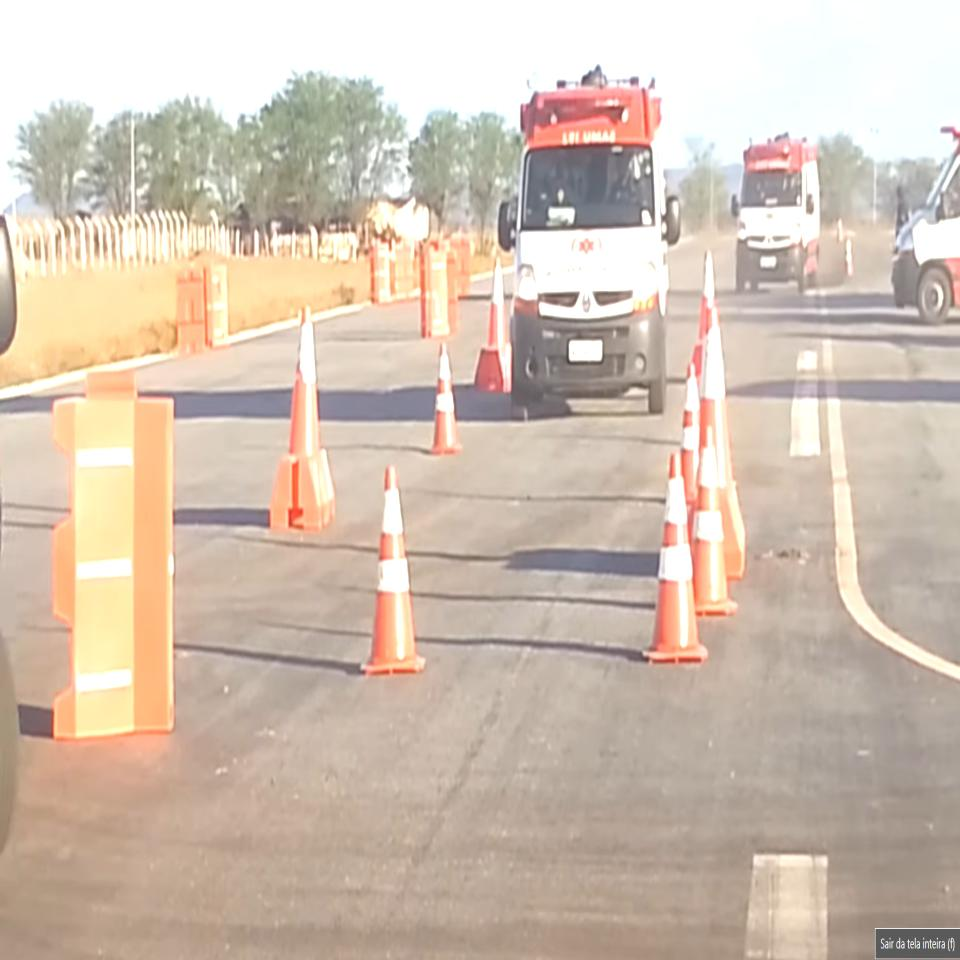ambulancia: (495, 64, 682, 407), (730, 126, 826, 296)
